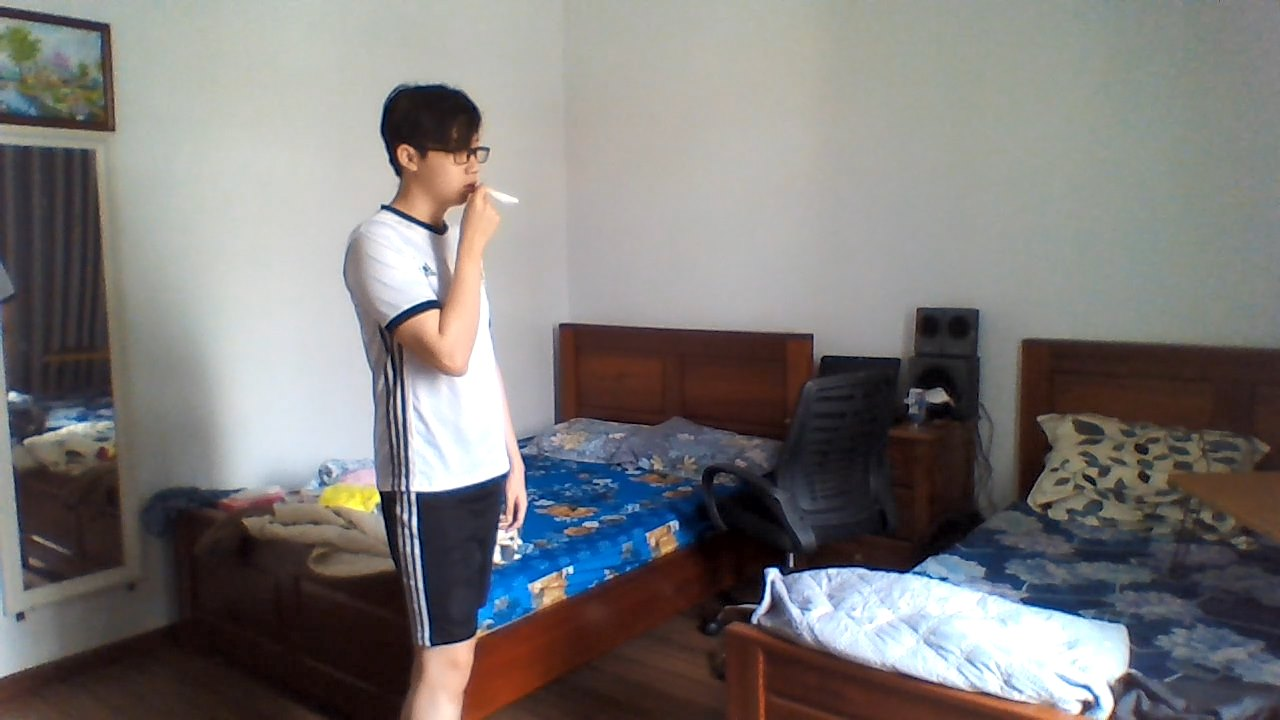cigarette: (489, 188, 526, 209)
person: (316, 73, 538, 720)
